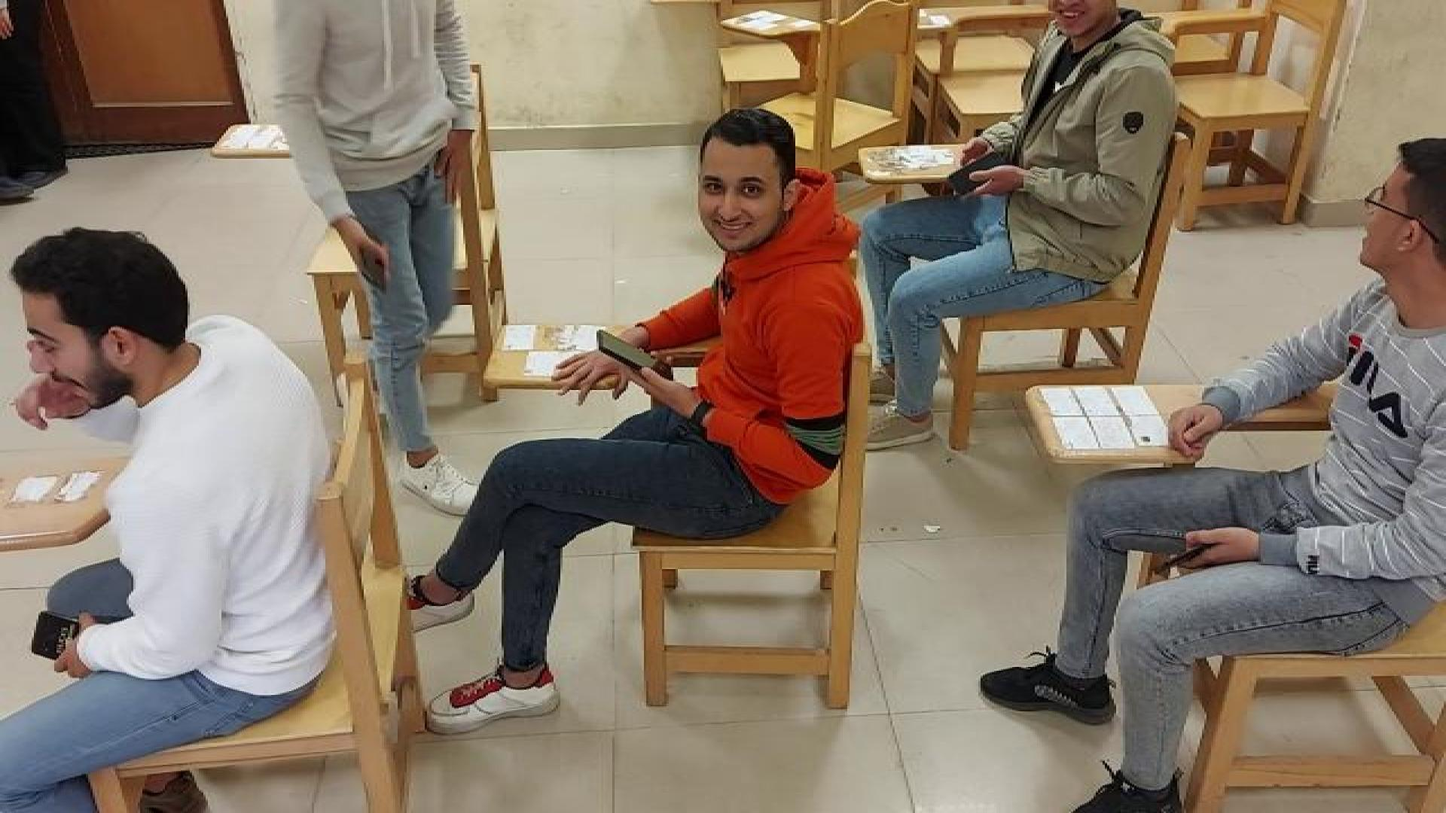phone: (596, 332, 676, 378), (944, 151, 1008, 196), (28, 612, 78, 666)
